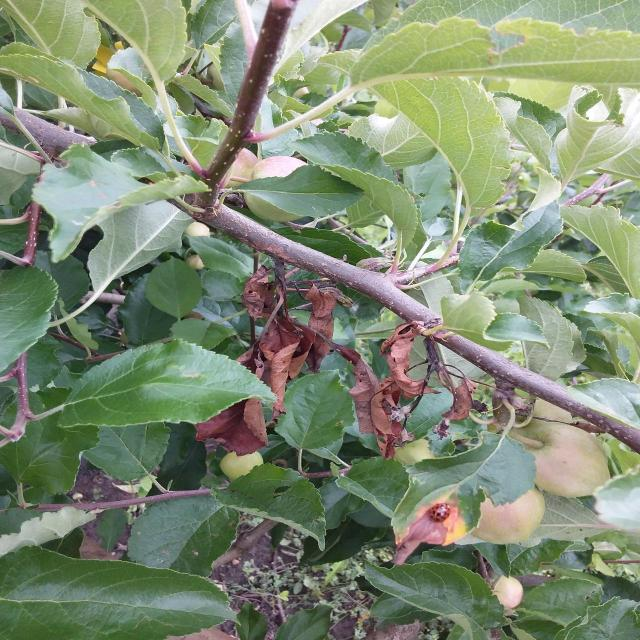-FireBlight-: (251, 252, 335, 399), (355, 353, 401, 458), (197, 396, 266, 457), (392, 320, 431, 396), (438, 366, 479, 422)
